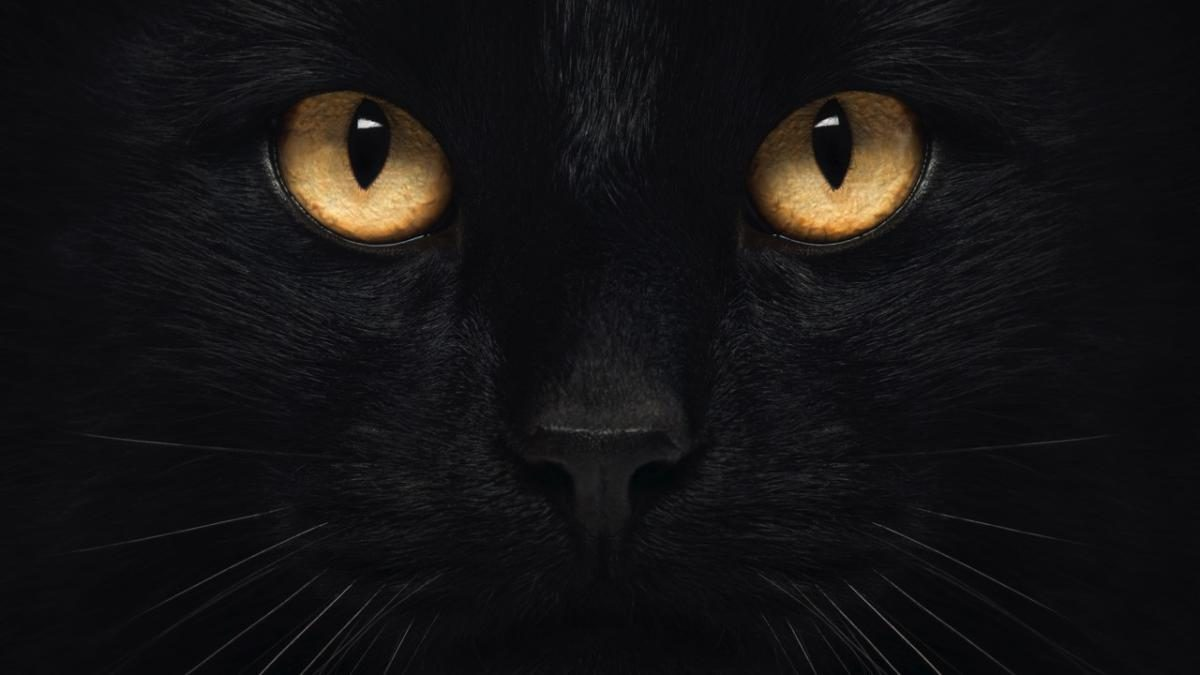cat: (2, 1, 1200, 675)
